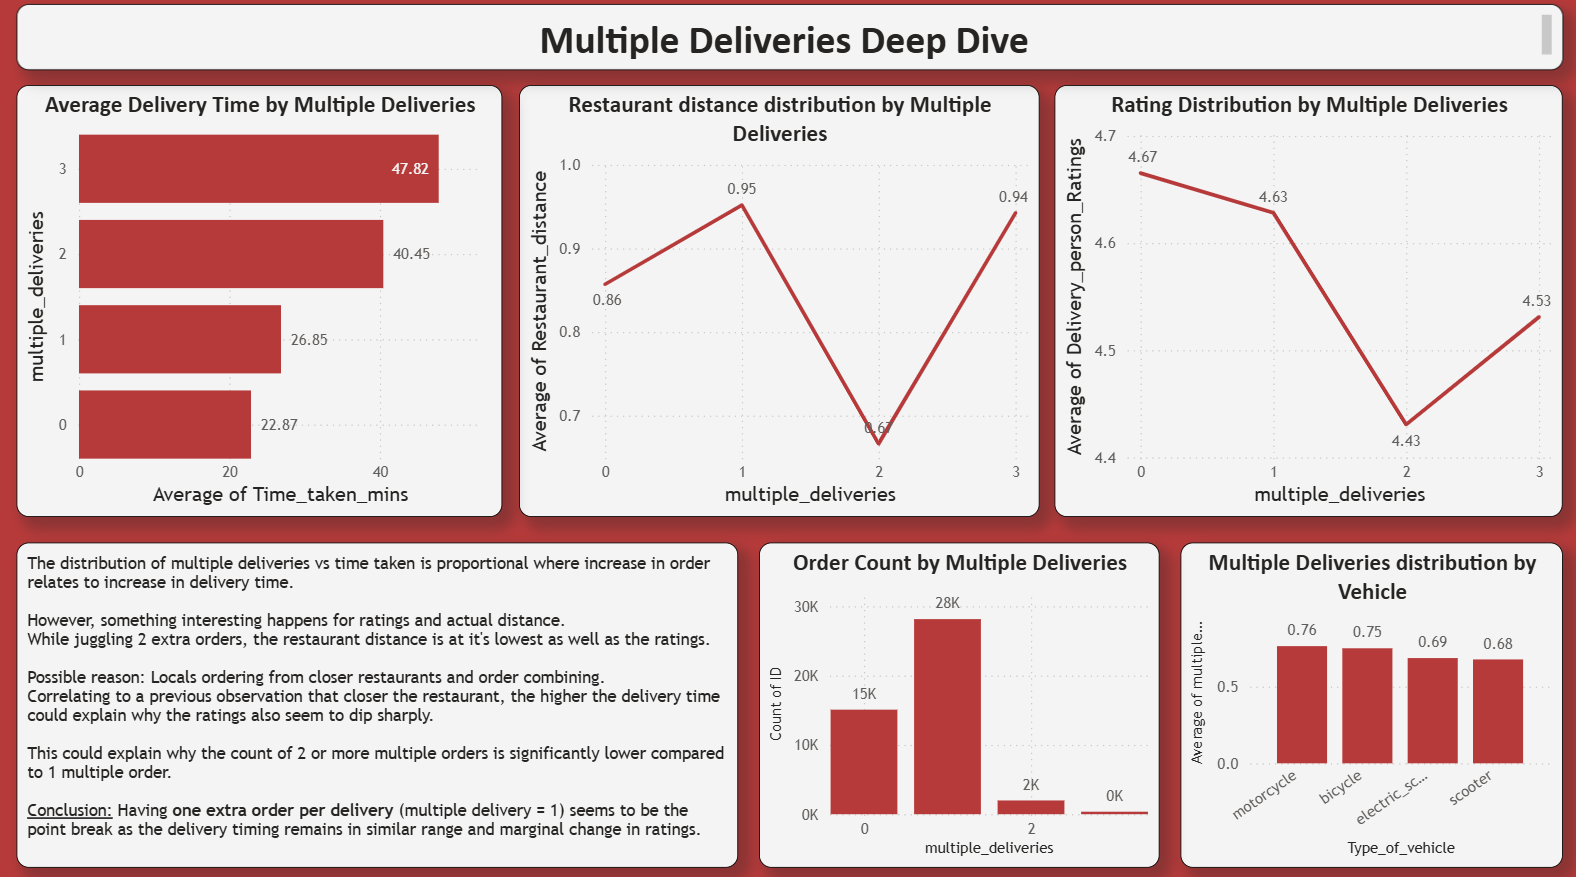

What the dashboard file says about the page in this screenshot:
{"tool":"powerbi","page":{"name":"Multiple Deliveries","canvas":[1280,720],"ordinal":6},"visuals":[{"type":"lineChart","title":"Restaurant distance distribution by Multiple Deliveries","fields":{"Y":["Avg(zomato_data zomato.Restaurant_distance)"],"Category":["zomato_data zomato.multiple_deliveries"]},"box":[422.9,74.9,419.3,348],"z":0},{"type":"textbox","box":[18.1,443.5,581.2,262.2],"z":1000},{"type":"clusteredBarChart","title":"Average Delivery Time by Multiple Deliveries","fields":{"Category":["zomato_data zomato.multiple_deliveries"],"Y":["Avg(zomato_data zomato.Time_taken_mins)"]},"box":[18.1,74.9,391.5,348],"z":2000},{"type":"clusteredColumnChart","title":"Multiple Deliveries distribution by Vehicle","fields":{"Y":["Avg(zomato_data zomato.multiple_deliveries)"],"Category":["zomato_data zomato.Type_of_vehicle"]},"box":[955.8,443.5,308.1,262.2],"z":3000},{"type":"lineChart","title":"Rating Distribution by Multiple Deliveries","fields":{"Category":["zomato_data zomato.multiple_deliveries"],"Y":["Avg(zomato_data zomato.Delivery_person_Ratings)"]},"box":[854.3,74.9,409.6,348],"z":4000},{"type":"clusteredColumnChart","title":"Order Count by Multiple Deliveries","fields":{"Category":["zomato_data zomato.multiple_deliveries"],"Y":["CountNonNull(zomato_data zomato.ID)"]},"box":[616.2,443.5,322.6,262.2],"z":5000},{"type":"textbox","box":[18.1,9.7,1245.8,53.2],"z":6000}]}

Visuals, with their boxes in screenshot pixels (x1, y1, x2, y2), scaled from the page's 1280x720 canvas onto the 1576x877 screenshot:
"Restaurant distance distribution by Multiple Deliveries" lineChart: detection(521, 91, 1037, 515)
textbox: detection(22, 540, 738, 860)
"Average Delivery Time by Multiple Deliveries" clusteredBarChart: detection(22, 91, 504, 515)
"Multiple Deliveries distribution by Vehicle" clusteredColumnChart: detection(1177, 540, 1556, 860)
"Rating Distribution by Multiple Deliveries" lineChart: detection(1052, 91, 1556, 515)
"Order Count by Multiple Deliveries" clusteredColumnChart: detection(759, 540, 1156, 860)
textbox: detection(22, 12, 1556, 77)
